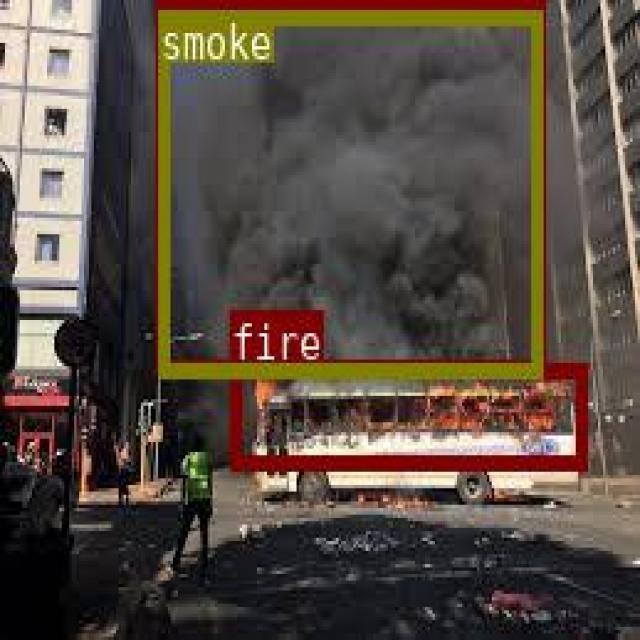fire: (156, 0, 541, 373), (229, 360, 586, 467)
smoke: (156, 7, 541, 373)
